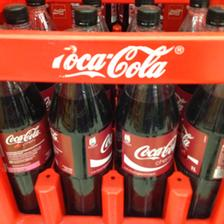Soda: (48, 82, 112, 214), (115, 84, 179, 216), (0, 80, 48, 212), (178, 84, 223, 218)
